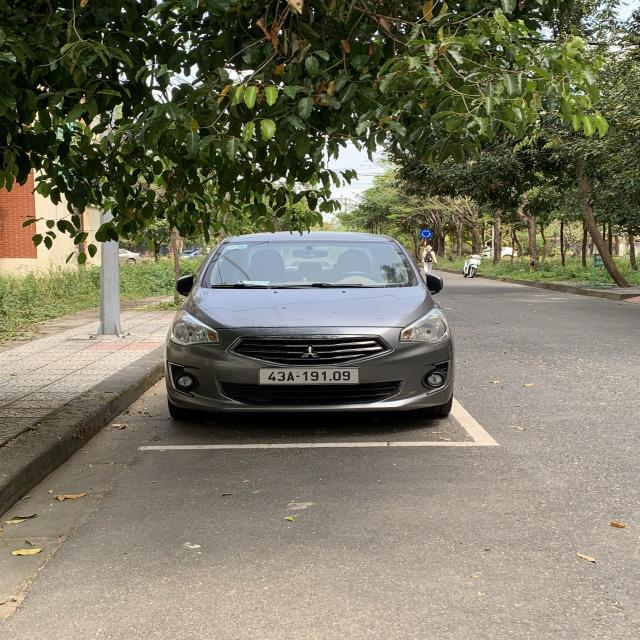car: (165, 227, 463, 424)
plate: (255, 362, 362, 389)
